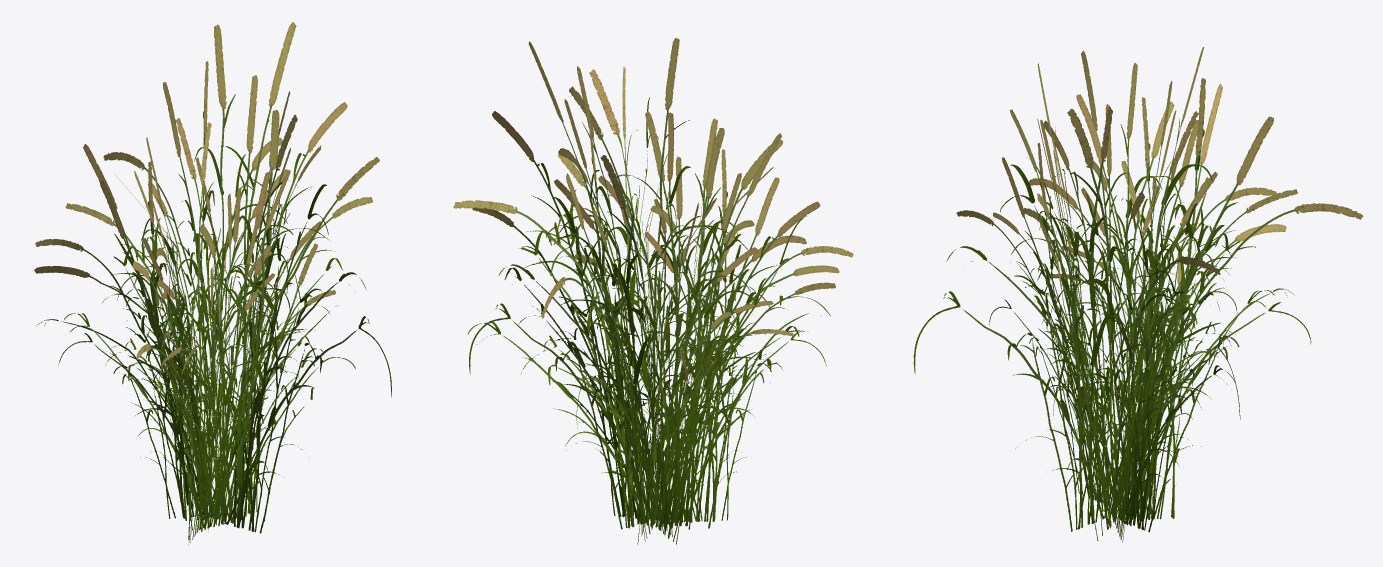
File: grass_tall.glb
3 renders of one model, left to right at view 1: azimuth 30°, elevation 25°; view 2: azimuth 150°, elevation 25°; view 3: azimuth 270°, elevation 25°, orthographic. The views are drawn at different scales.
Parts seen in each view (by area): view 1: Grass tall high_Tall_grass_Mat_0; view 2: Grass tall high_Tall_grass_Mat_0; view 3: Grass tall high_Tall_grass_Mat_0.
Boxes of the visible parts, box(x1,y1,x2,y2) form: Grass tall high_Tall_grass_Mat_0: box(34, 22, 391, 544); Grass tall high_Tall_grass_Mat_0: box(453, 38, 853, 544); Grass tall high_Tall_grass_Mat_0: box(913, 47, 1363, 542).
Size of the model in its own units: 0.6918 by 1 by 0.837.
Materials: 1 (1 with a texture image).
